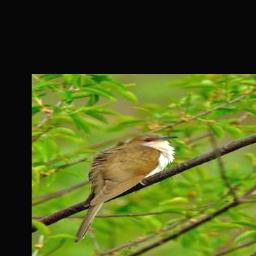Cuckoo: (71, 133, 179, 244)
